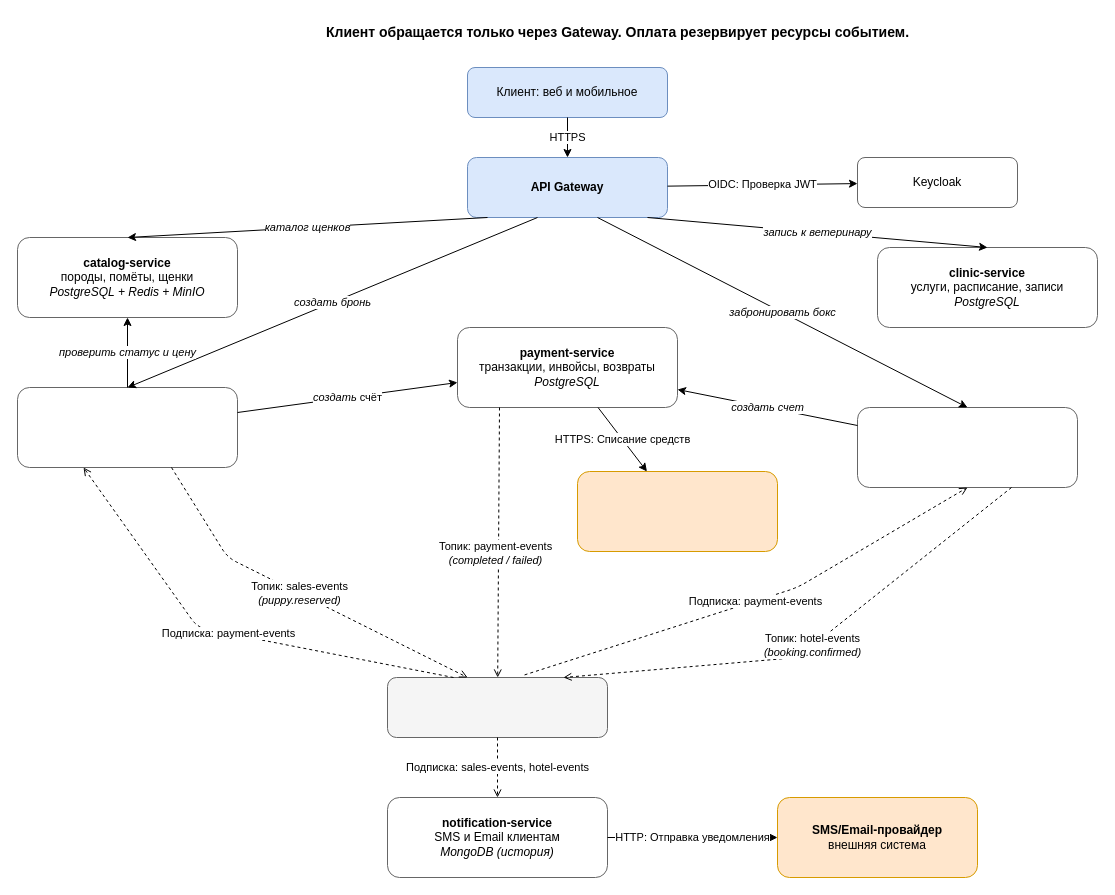
Some shapes in this 1115 by 895 pixel diagram are drawn without their labels. Each missing label, with the box of its shape:
Apache Kafka брокер событий: (386, 676, 608, 738)
hotel-service боксы, заезды, передержка PostgreSQL + Redis: (856, 406, 1078, 488)
sales-service бронь и продажа щенков PostgreSQL + Redis: (16, 386, 238, 468)
Платёжный шлюз внешняя система: (576, 470, 778, 552)
